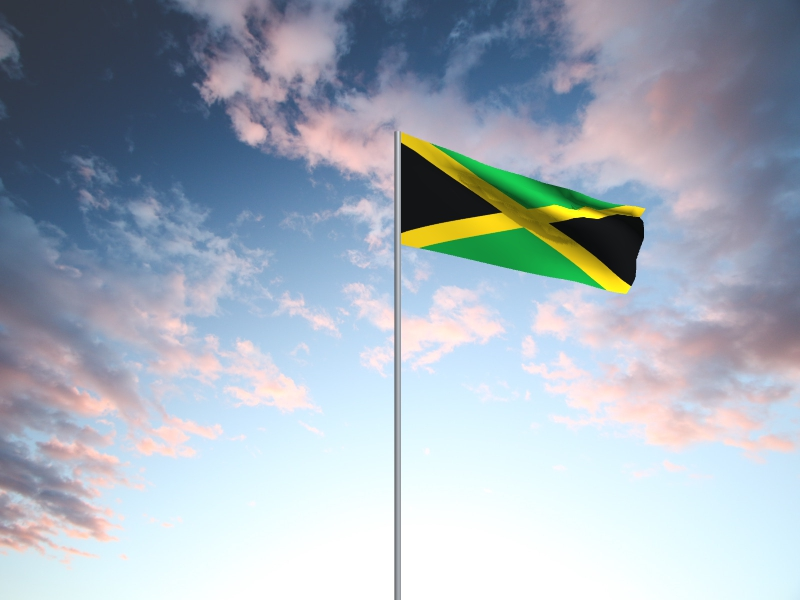jm: (401, 132, 647, 296)
